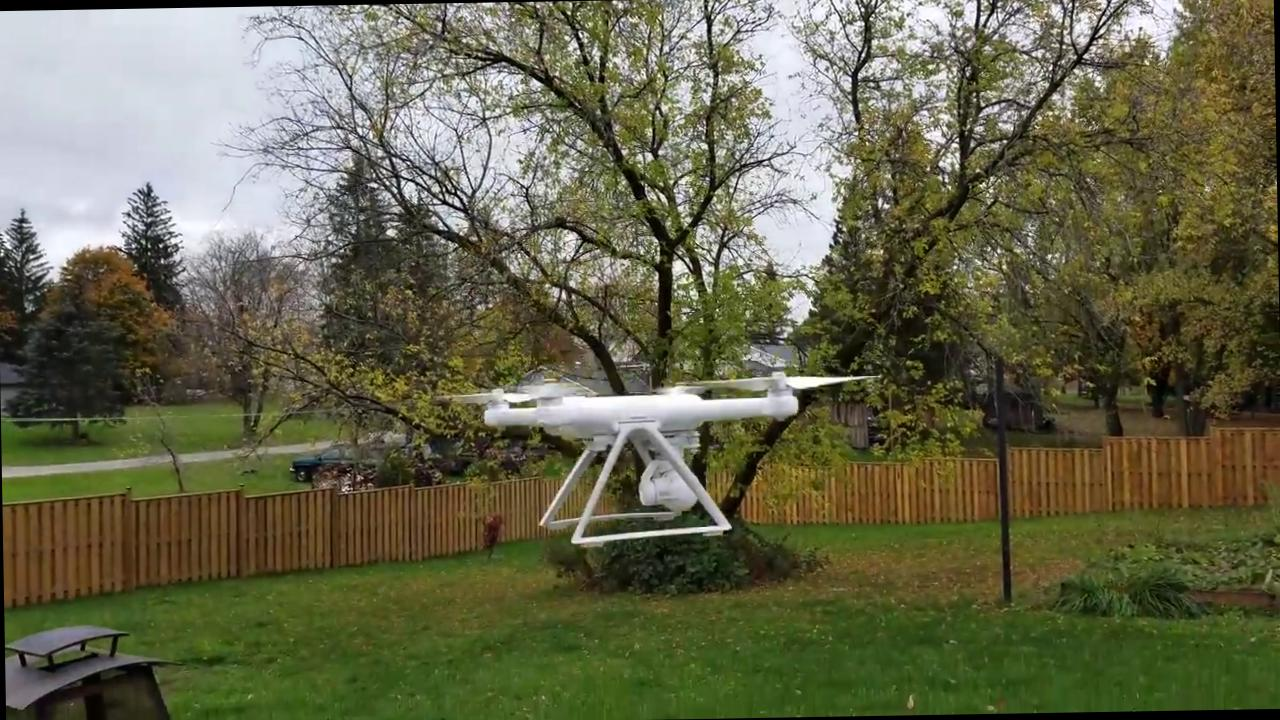drone: (442, 358, 894, 465)
